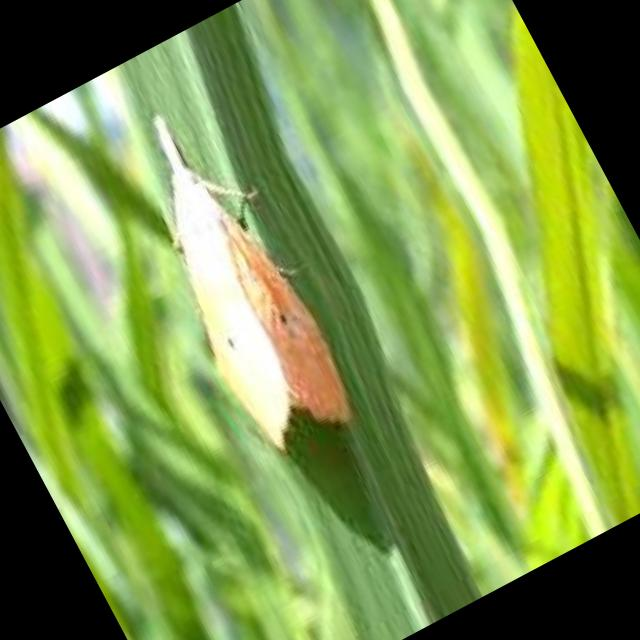stem-borer: (98, 83, 380, 464)
